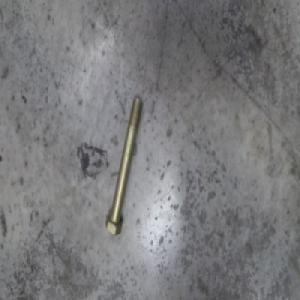Bolt: (104, 99, 144, 240)
